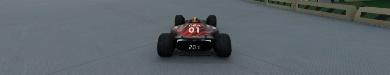Car: (156, 14, 231, 57)
obstacles-Borders: (240, 0, 389, 31)
